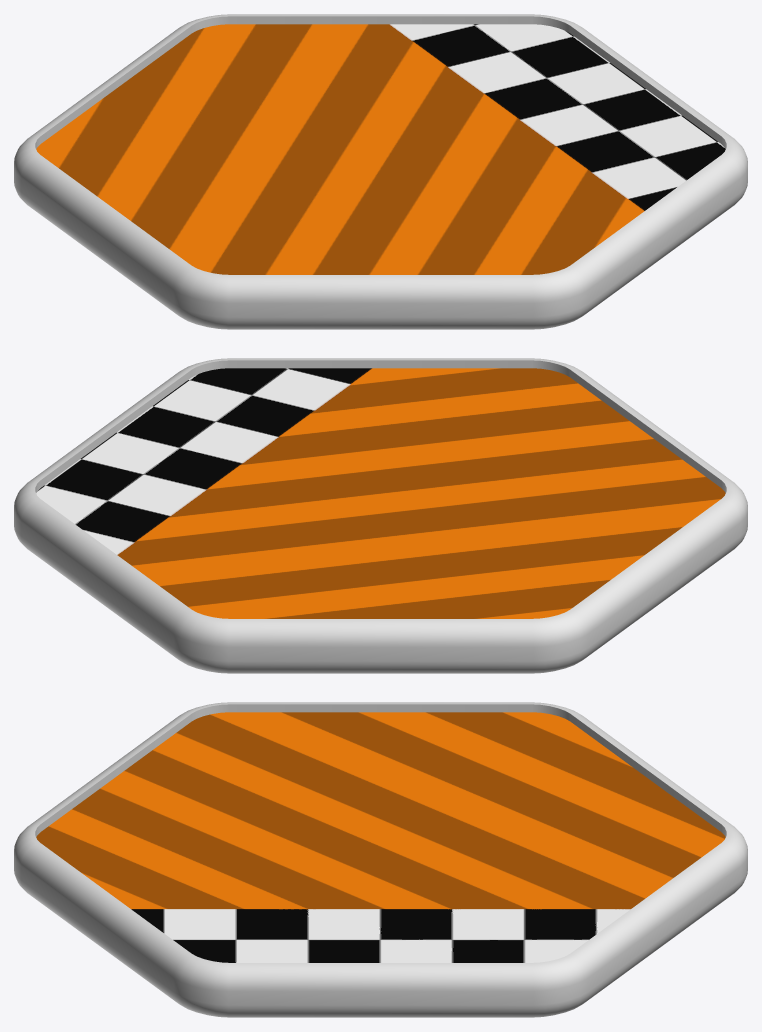
File: start_platform.fbx
The picture shows the model from 3 angles, top to bottom: view 1: azimuth 30°, elevation 25°; view 2: azimuth 150°, elevation 25°; view 3: azimuth 270°, elevation 25°; orthographic projection.
Parts seen in each view (by area): view 1: Start_platform; view 2: Start_platform; view 3: Start_platform.
Part boxes in pixels (x1,y1,x2,y2): Start_platform: (14, 14, 747, 329); Start_platform: (14, 358, 747, 673); Start_platform: (14, 702, 747, 1017).
Size of what is drawn, in the model's own units: 11.26 by 1 by 12.62.
